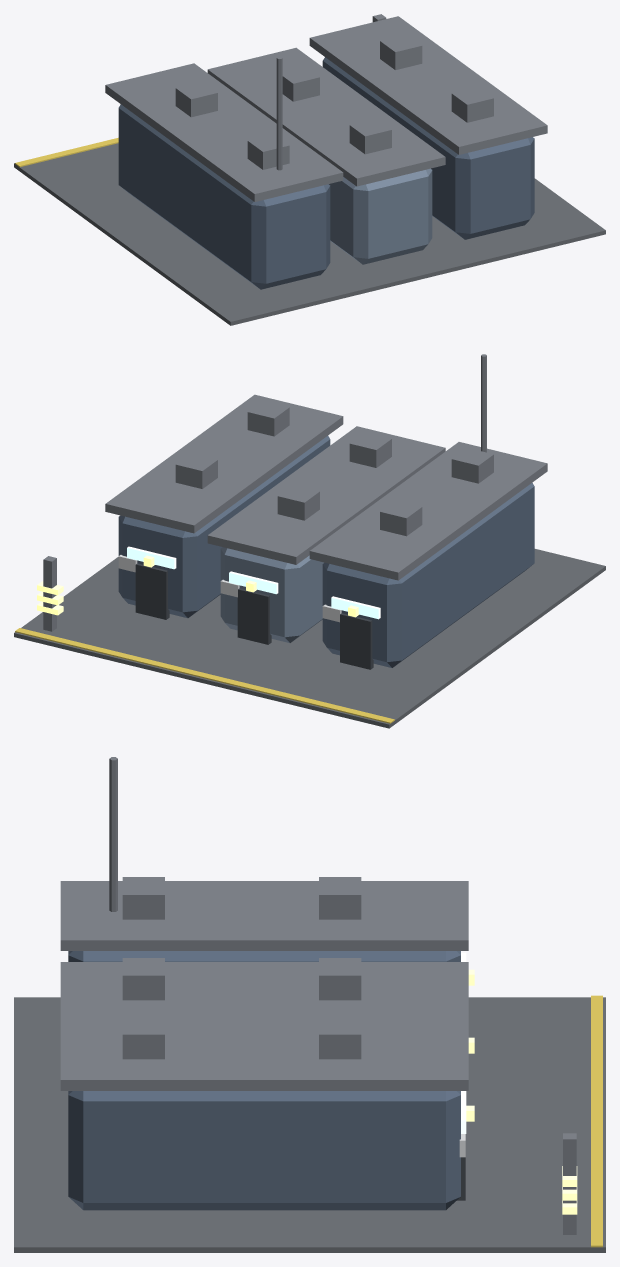
The model's file is zone_low_4_t3.glb.
The picture shows the model from 3 angles, top to bottom: view 1: azimuth 30°, elevation 25°; view 2: azimuth 150°, elevation 25°; view 3: azimuth 270°, elevation 25°; orthographic projection. The views are drawn at different scales.
Parts seen in each view (by area): view 1: zone_low_4_t3, detail; view 2: zone_low_4_t3, detail; view 3: zone_low_4_t3, detail.
Boxes of the visible parts, left/top/right/bottom form: zone_low_4_t3: left=14, top=16, right=605, bottom=325; detail: left=15, top=14, right=493, bottom=170; zone_low_4_t3: left=14, top=394, right=605, bottom=728; detail: left=15, top=354, right=493, bottom=723; zone_low_4_t3: left=14, top=881, right=605, bottom=1252; detail: left=109, top=757, right=602, bottom=1247.
Size of the model in its own units: 19.6 by 11 by 19.6.
